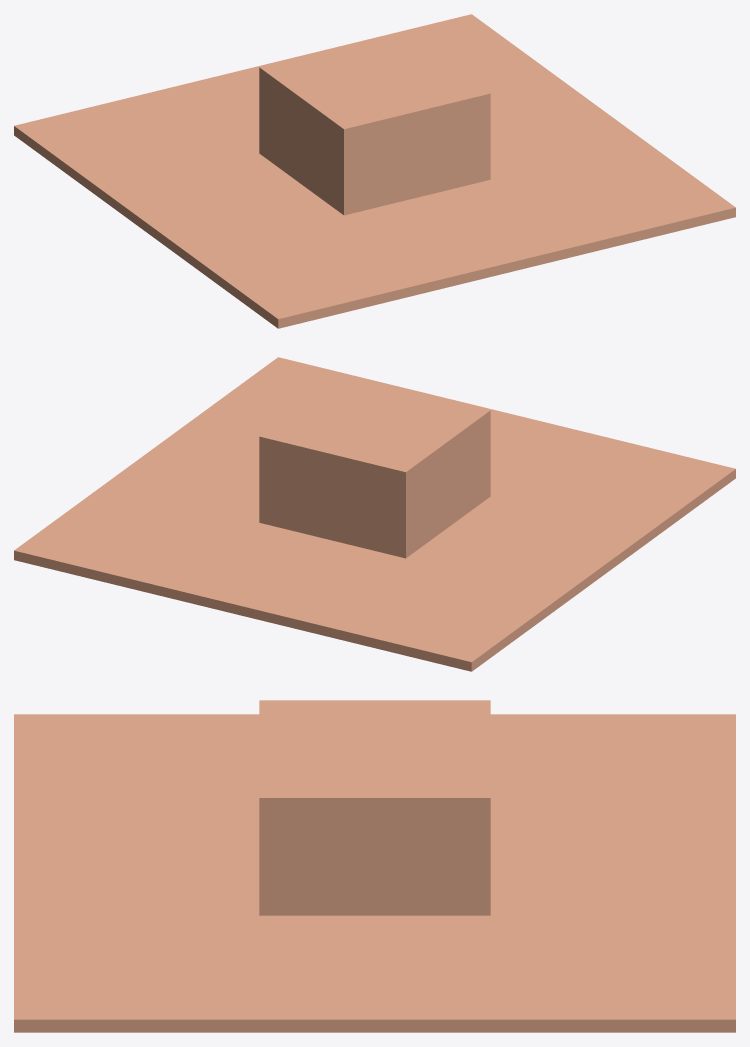
3 views of the same model, one above another, from view 1: azimuth 30°, elevation 25°; view 2: azimuth 150°, elevation 25°; view 3: azimuth 270°, elevation 25° (orthographic). The views are drawn at different scales.
Visible parts, largest first — view 1: Quarter 0 0, Tower 0 0; view 2: Quarter 0 0, Tower 0 0; view 3: Quarter 0 0, Tower 0 0.
Part boxes in pixels (x1,y1,x2,y2): Quarter 0 0: (14, 14, 735, 328); Tower 0 0: (259, 31, 490, 215); Quarter 0 0: (14, 357, 735, 671); Tower 0 0: (259, 374, 490, 558); Quarter 0 0: (14, 714, 735, 1032); Tower 0 0: (259, 700, 490, 915).
Bounding box in the file's own units: 50 × 10 × 50.
